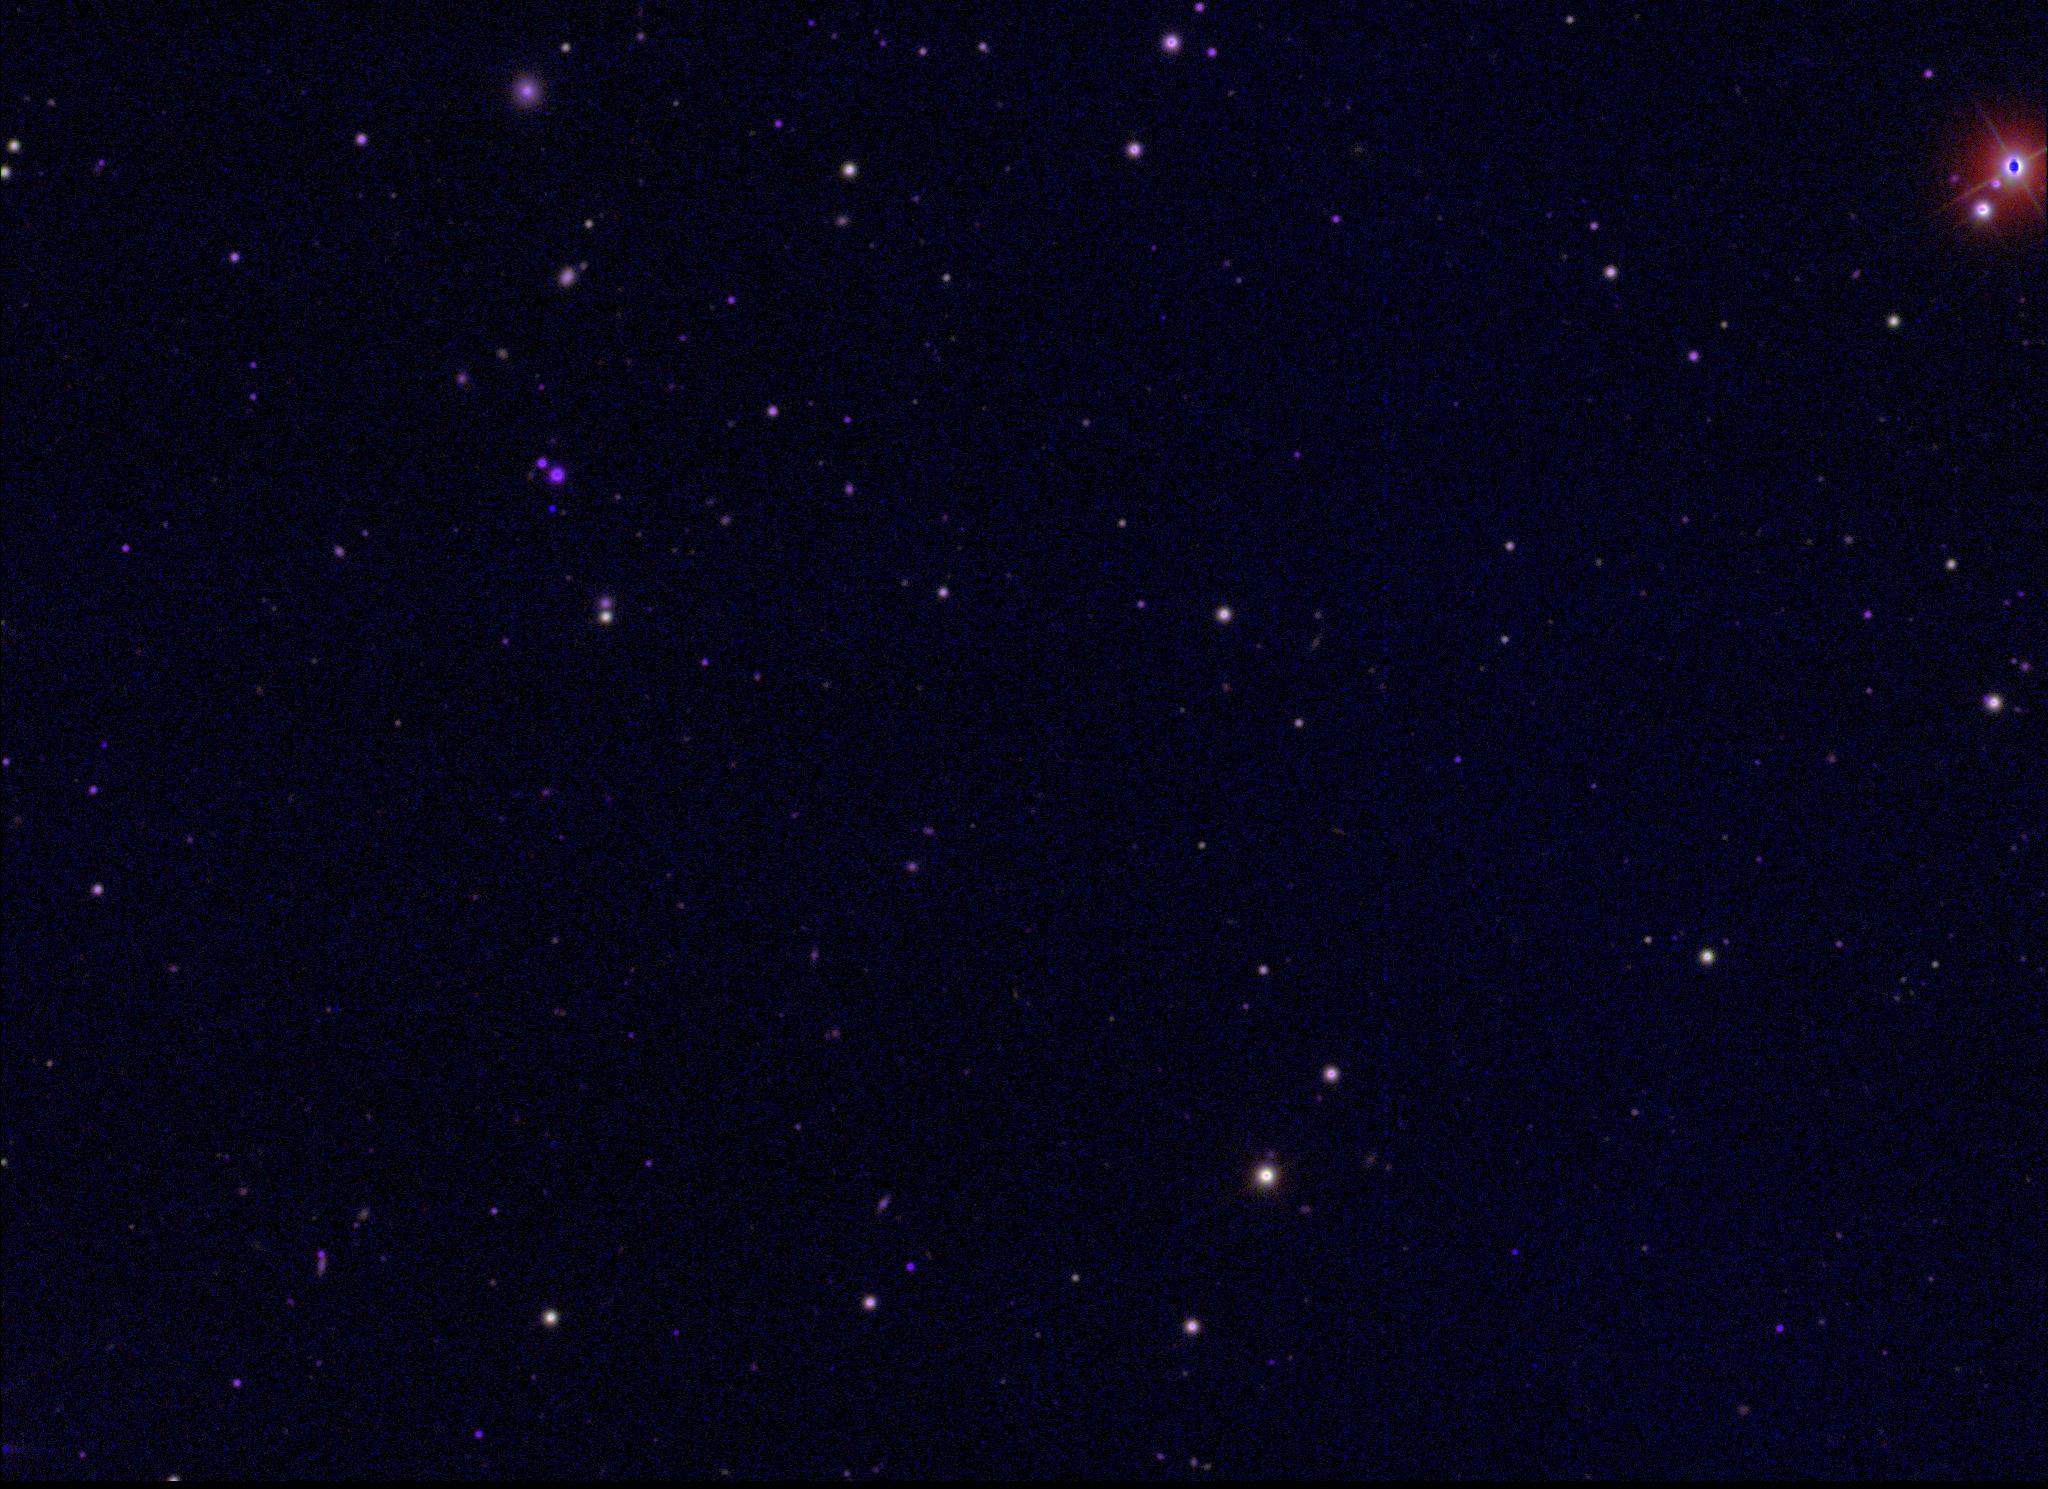L: (545, 503, 560, 515)
